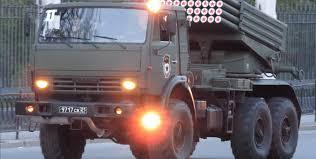MIL_SAM_TEL: (26, 0, 299, 159)
